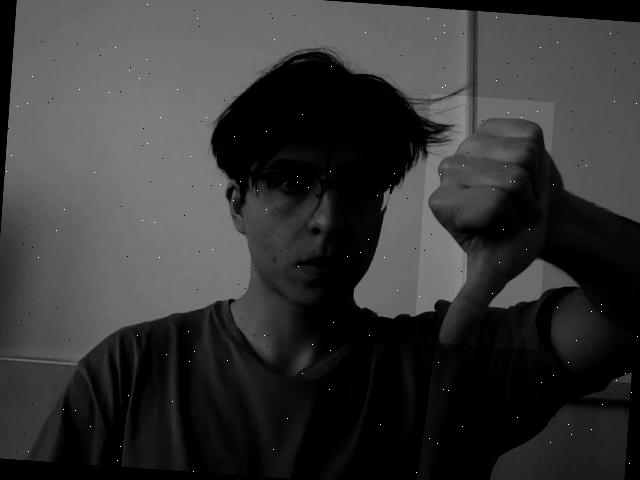bad: (413, 93, 554, 350)
